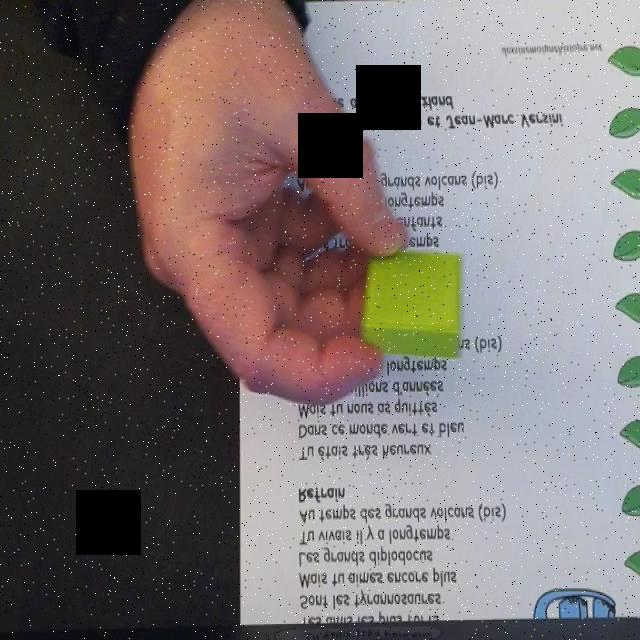square: (362, 249, 462, 359)
